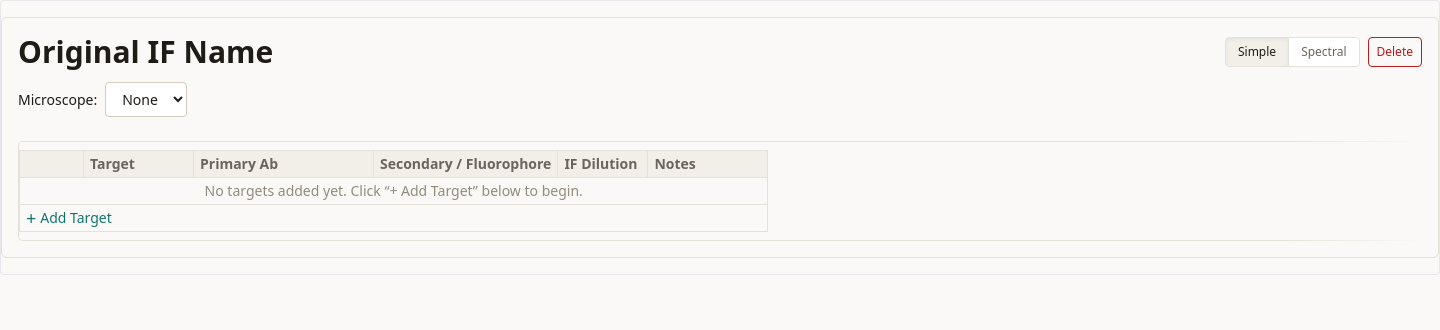
Test case: IfPanelView › Test 3 — action propagates to attrs: editing name updates editor JSON
Click the heading "Original IF Name". click: (146, 52)
box: [18,34,273,70]
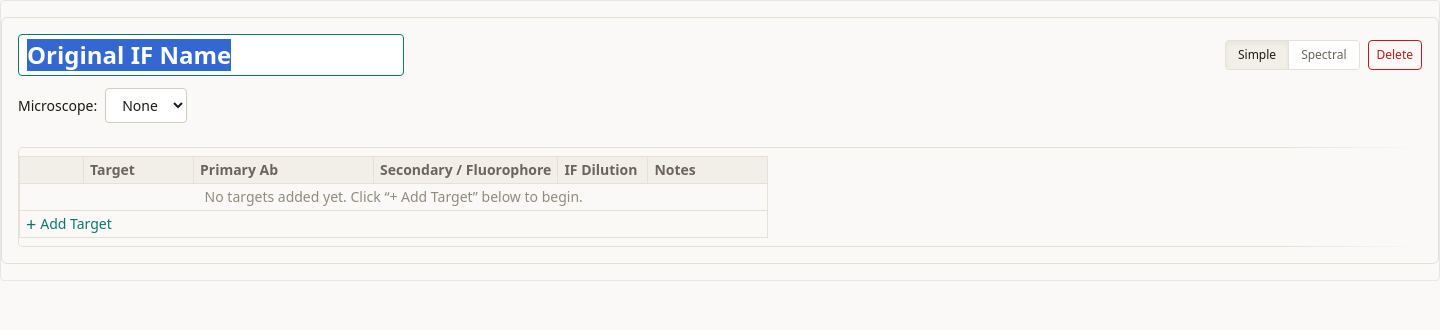
Expected: the field showing "Original IF Name" is shown
Replace the text in the field showing "Original IF Name" with "Updated IF Name". click: (211, 55)
box: [18,34,404,76]
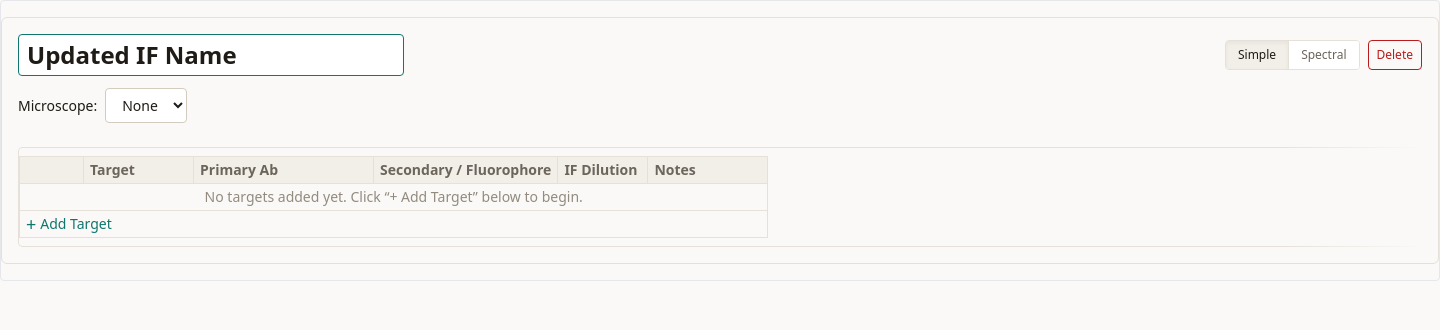
Leave the field showing "Original IF Name", box [18,34,404,76]
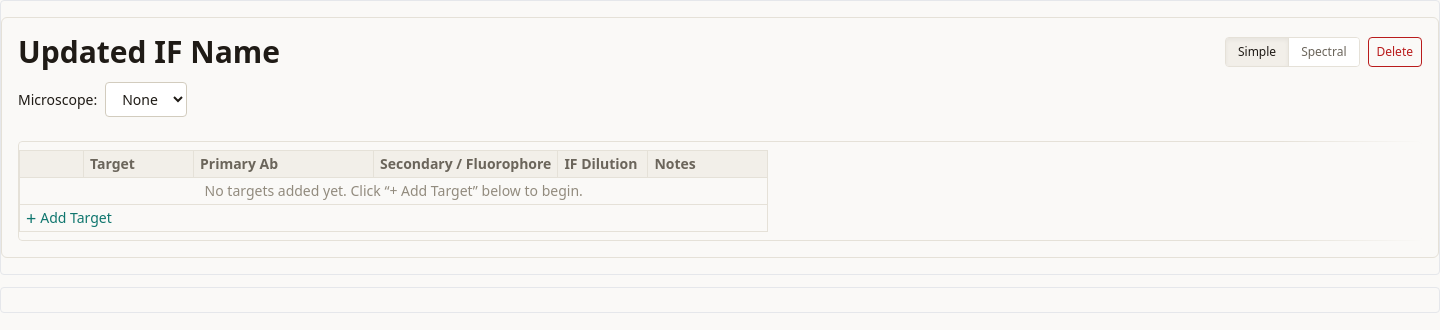
Expected: the heading "Updated IF Name" is shown, [18,34,280,70]
